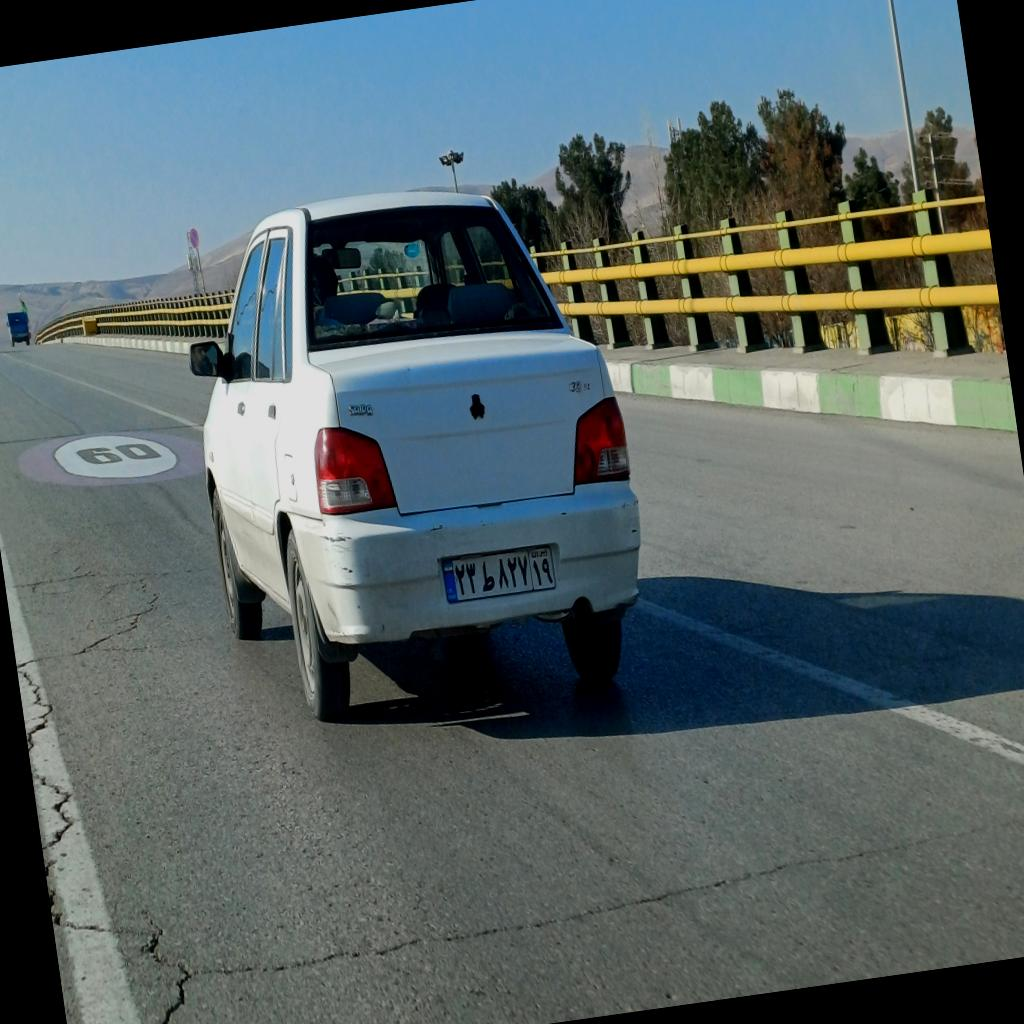Plates: (441, 545, 557, 604)
